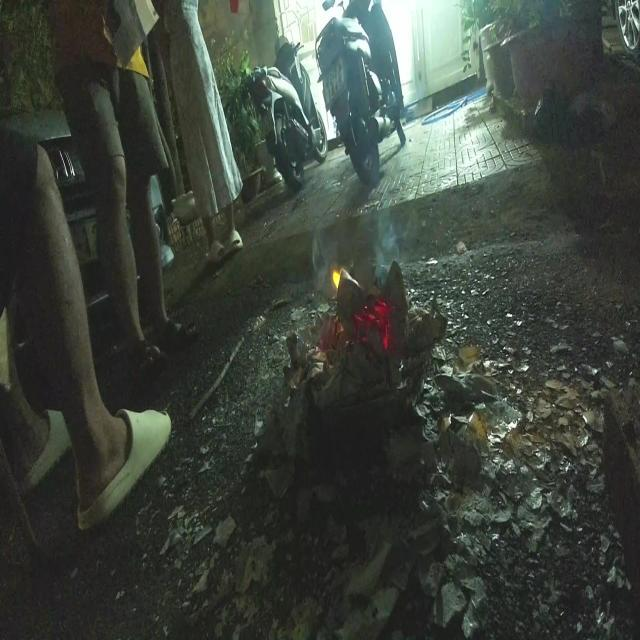Fire: (331, 270, 343, 288)
Smoke: (373, 196, 401, 282), (311, 226, 338, 296)
